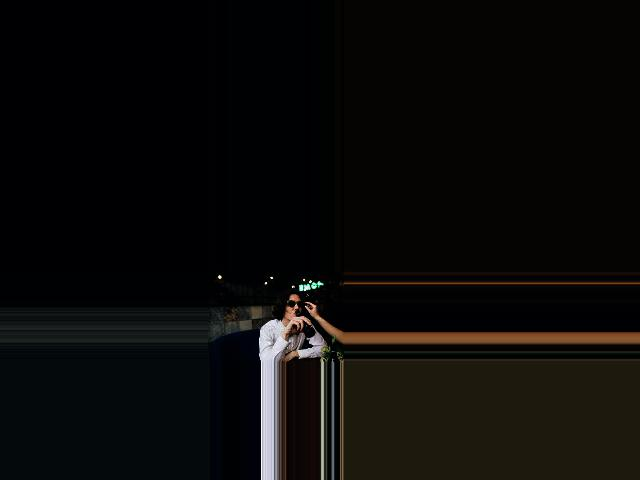beer: (296, 310, 316, 338)
